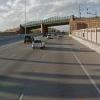Bridge: (13, 5, 97, 38)
